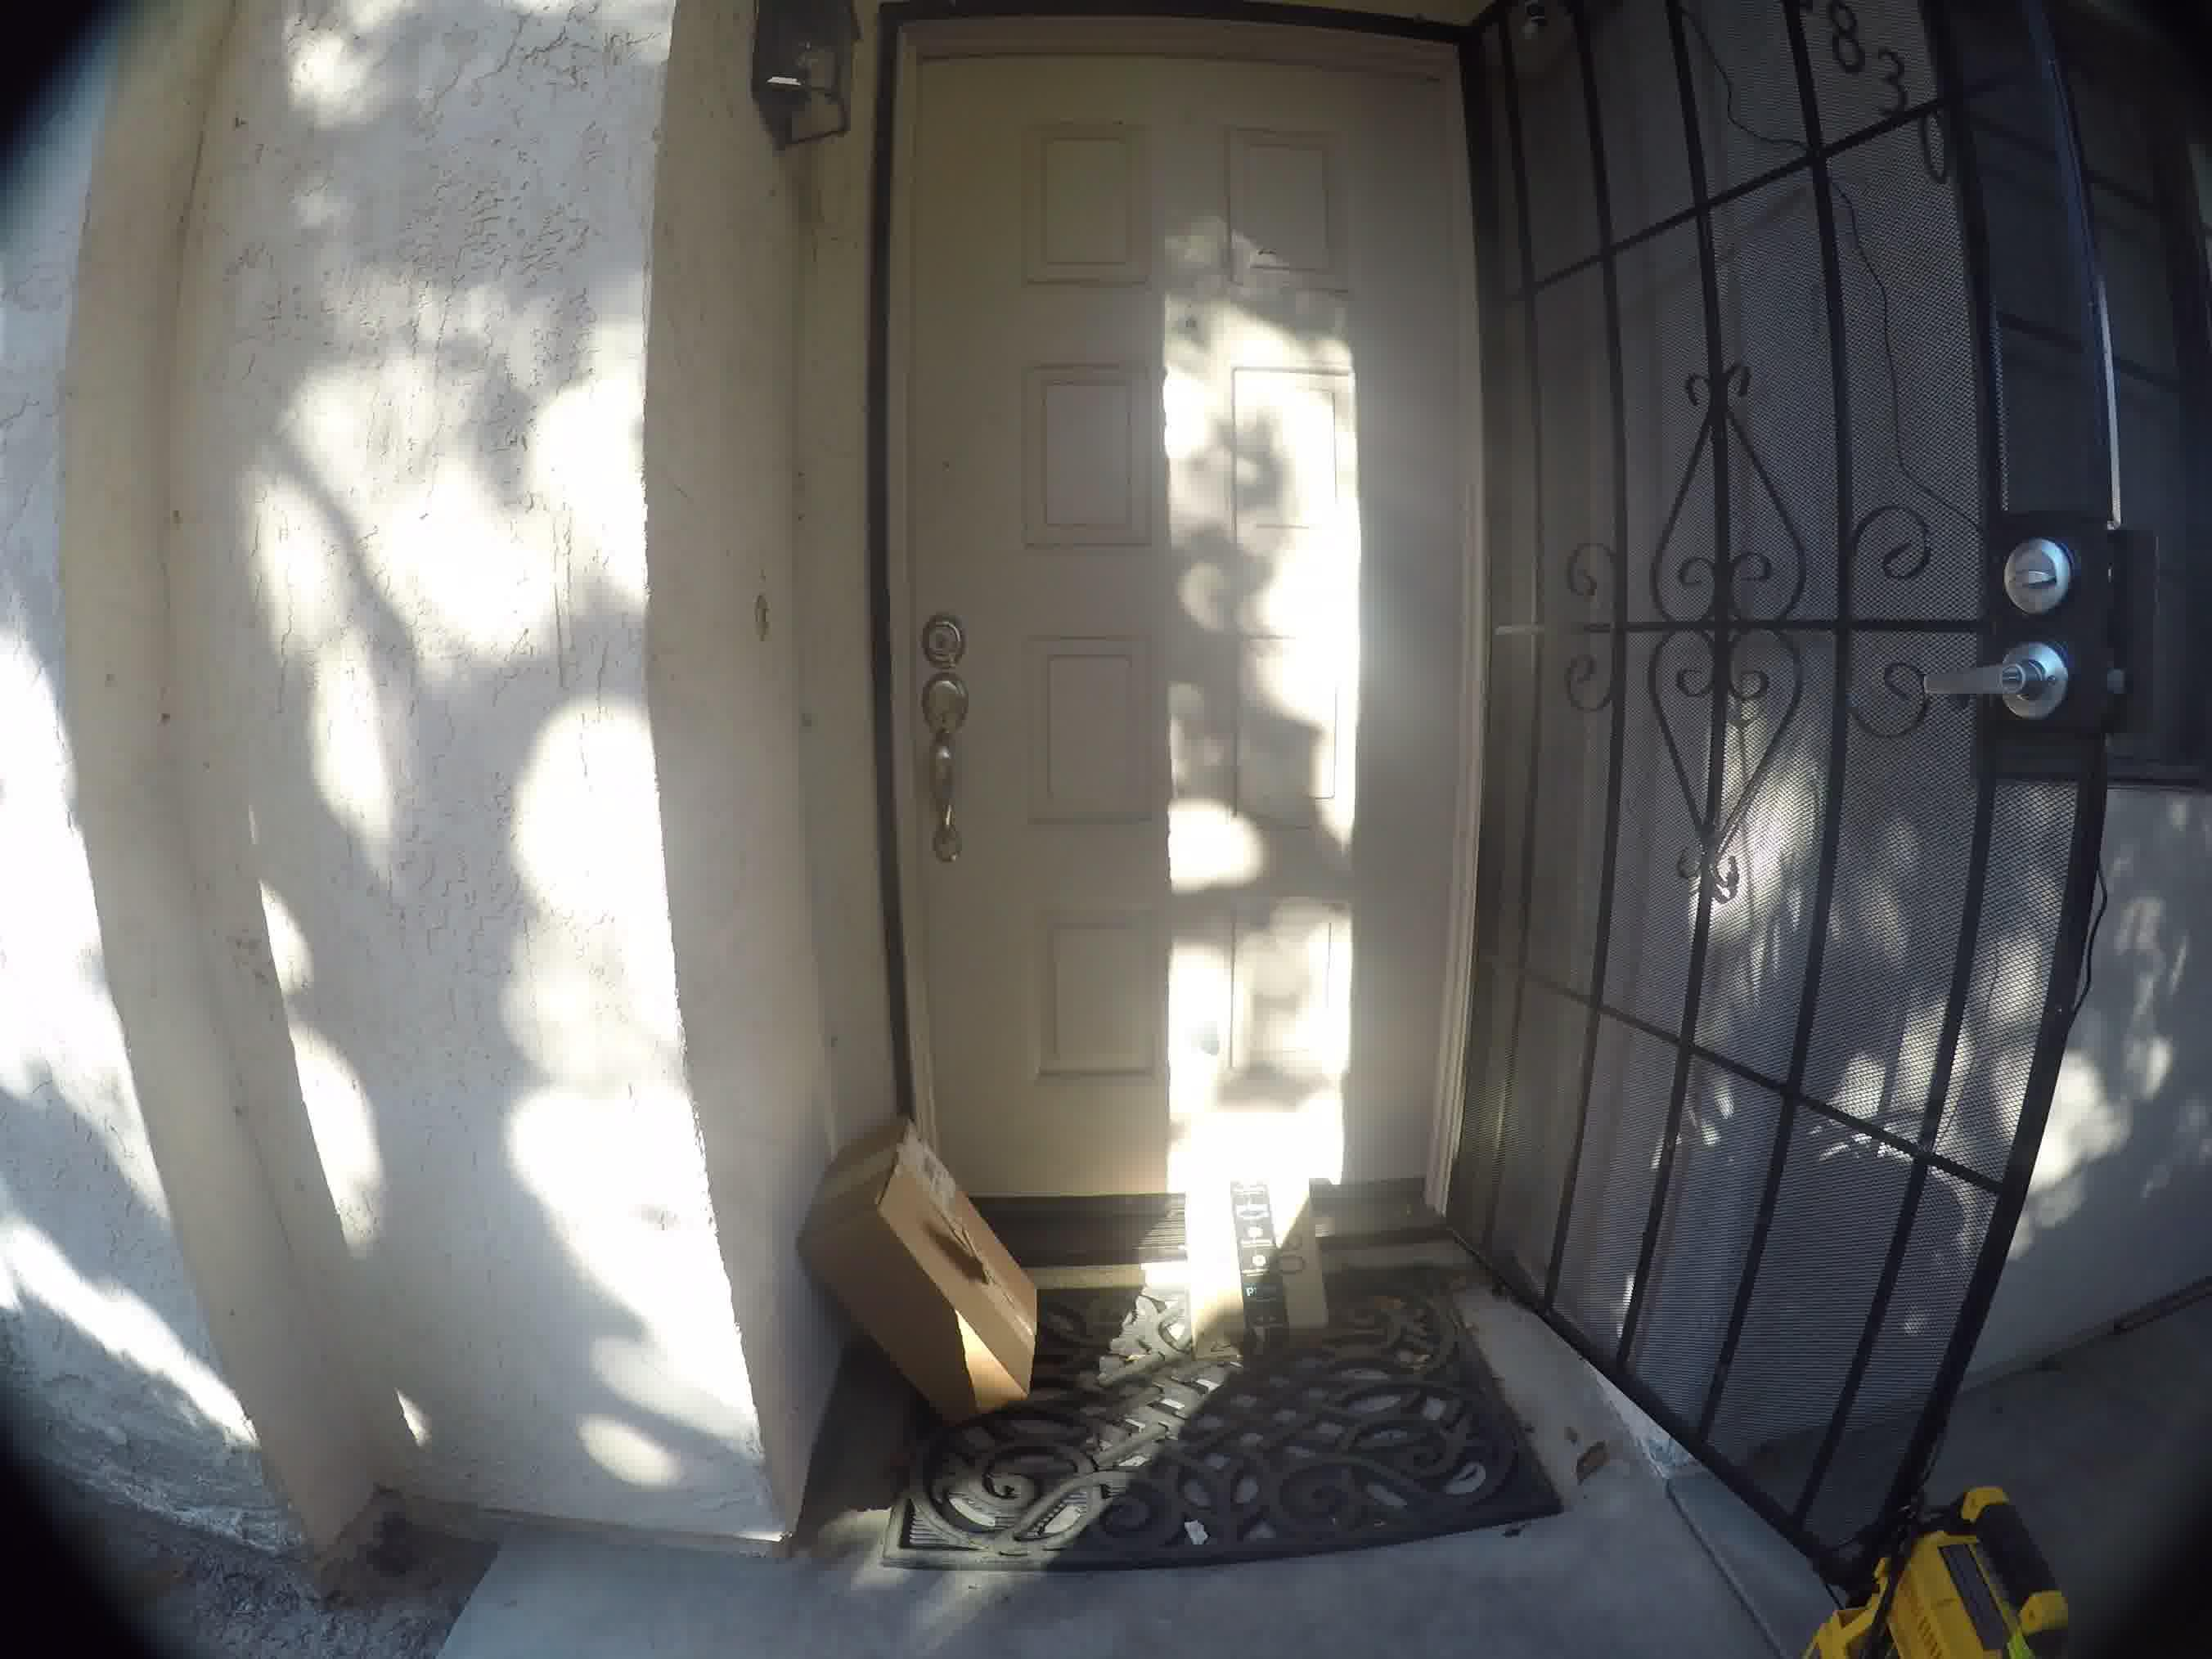box: (805, 1103, 1057, 1431), (1163, 1133, 1369, 1364)
